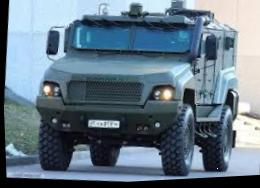armored_car: (17, 0, 252, 187)
